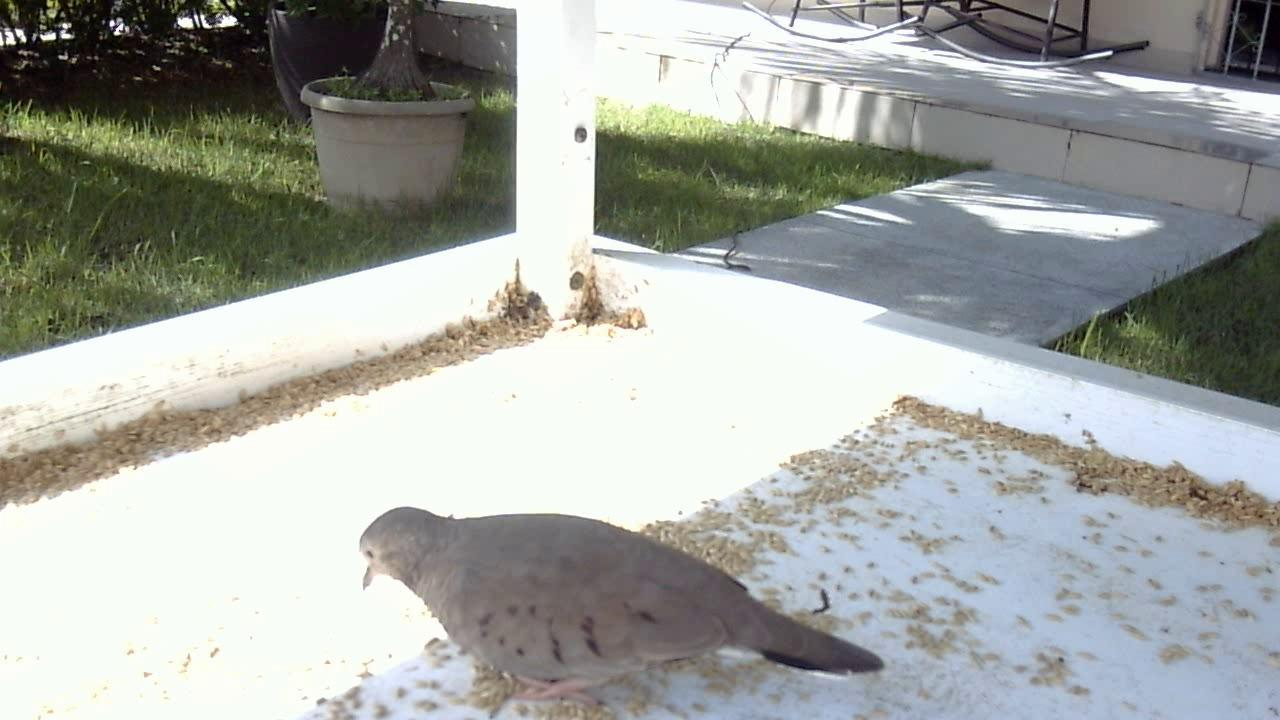rolinha: (335, 486, 896, 712)
